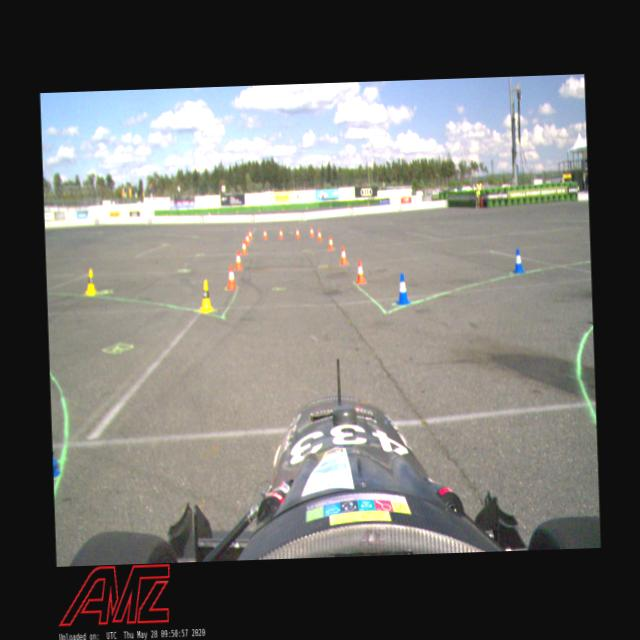blue_cone: (394, 266, 410, 306), (512, 246, 524, 274)
orange_cone: (354, 255, 367, 287), (224, 262, 236, 290), (338, 246, 348, 264), (233, 248, 241, 270), (327, 234, 334, 250), (240, 239, 247, 255), (278, 226, 286, 240), (316, 226, 322, 244), (308, 224, 315, 239), (294, 227, 300, 240), (245, 232, 249, 246), (248, 230, 252, 240), (262, 228, 266, 238)
yellow_cone: (196, 276, 214, 312), (84, 267, 96, 295)
